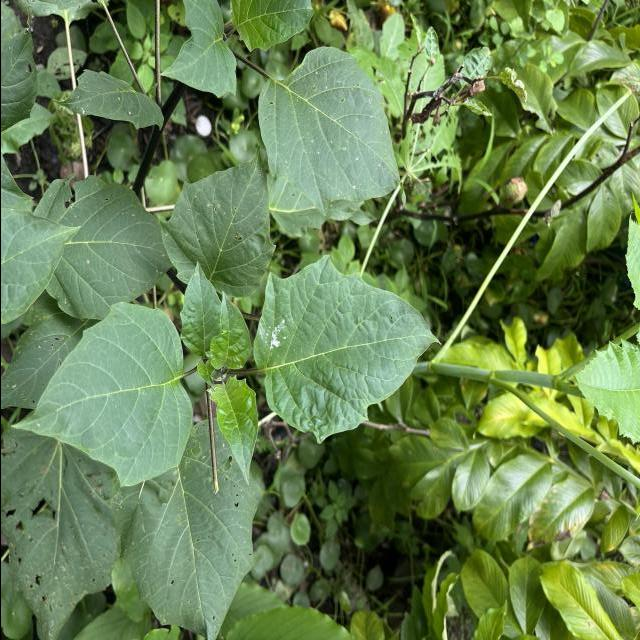Datura metal linn: (251, 252, 444, 448), (7, 300, 195, 490), (255, 44, 410, 219), (157, 144, 277, 300)
